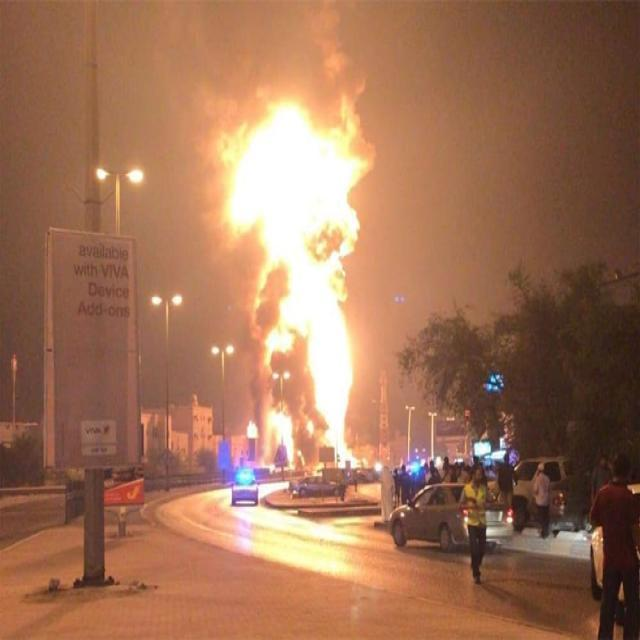Fire: (221, 94, 368, 464), (266, 406, 294, 470)
Smoke: (370, 18, 640, 361)
